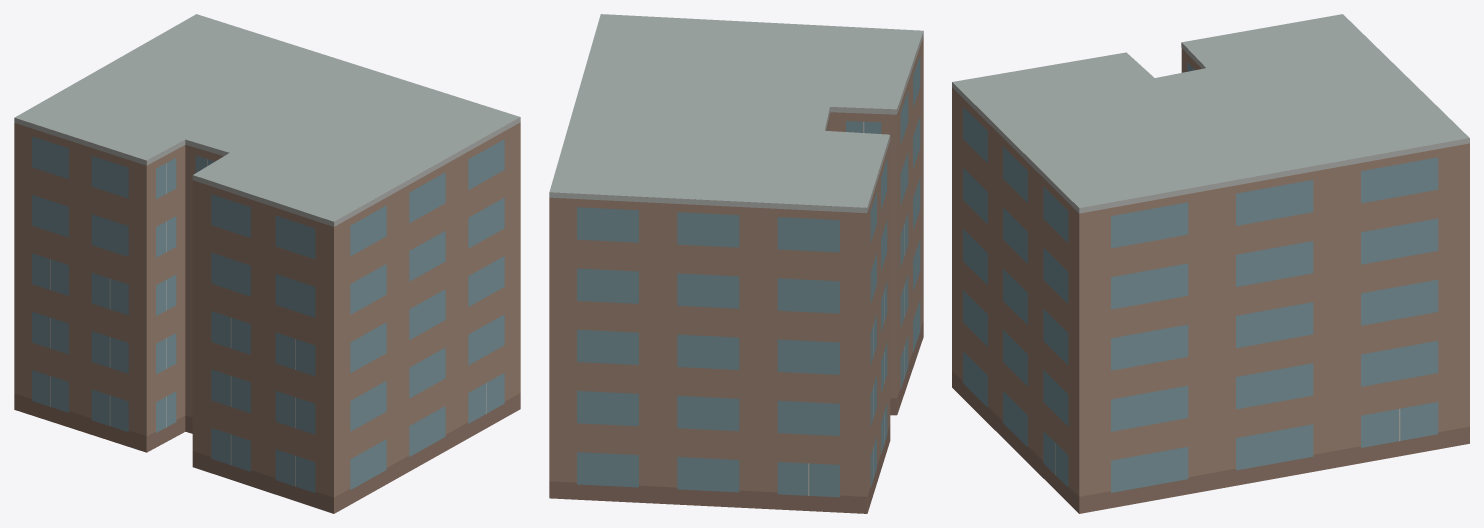
File: survey-upis-33012103.glb
The picture shows the model from 3 angles, left to right: view 1: azimuth 30°, elevation 25°; view 2: azimuth 150°, elevation 25°; view 3: azimuth 270°, elevation 25°; orthographic projection. The views are drawn at different scales.
Visible parts, largest first — view 1: survey-upis-33012103.tmp; view 2: survey-upis-33012103.tmp; view 3: survey-upis-33012103.tmp.
Boxes of the visible parts, x1,y1,x2,y2 form: survey-upis-33012103.tmp: (14, 14, 520, 513); survey-upis-33012103.tmp: (549, 14, 923, 513); survey-upis-33012103.tmp: (952, 14, 1469, 513).
Bounding box in the file's own units: 18.95 × 13.9 × 21.35.
